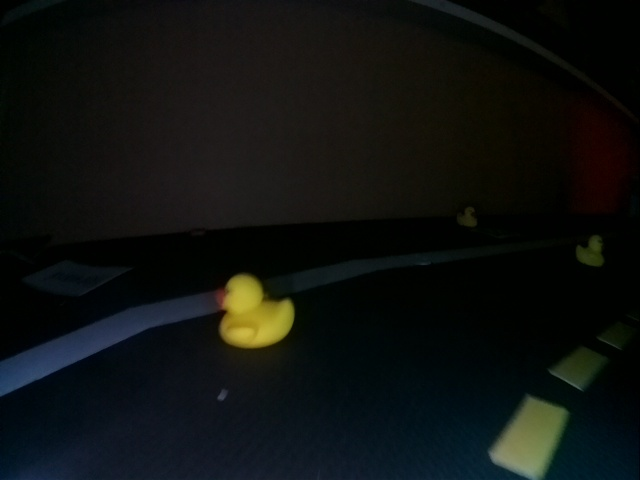Duckie: (220, 276, 293, 342), (576, 236, 601, 262), (459, 207, 478, 228)
